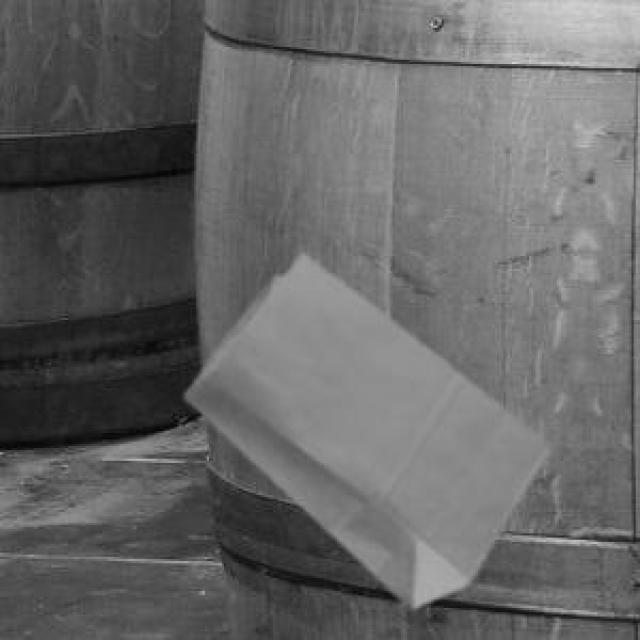paper: (181, 252, 546, 604)
